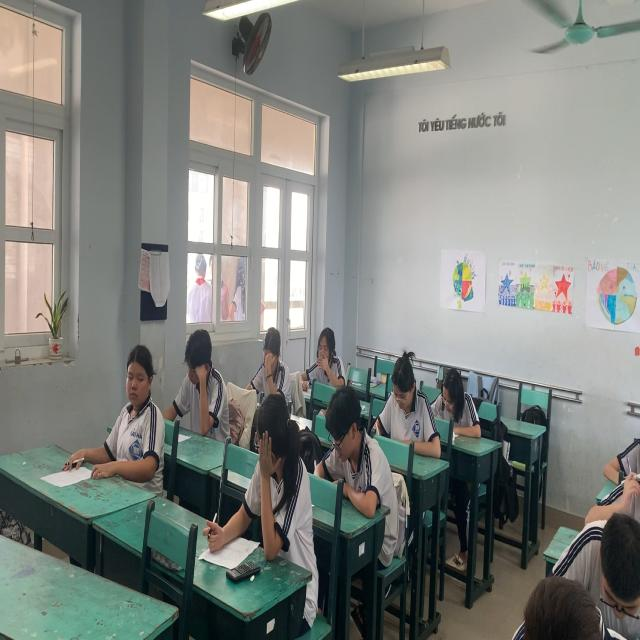cheating: (221, 394, 306, 570), (95, 310, 166, 492)
not_cheating: (484, 538, 640, 640), (311, 370, 381, 512), (554, 472, 633, 596), (179, 325, 237, 455), (378, 339, 429, 456), (249, 315, 287, 420), (434, 362, 478, 452), (308, 312, 343, 392)
